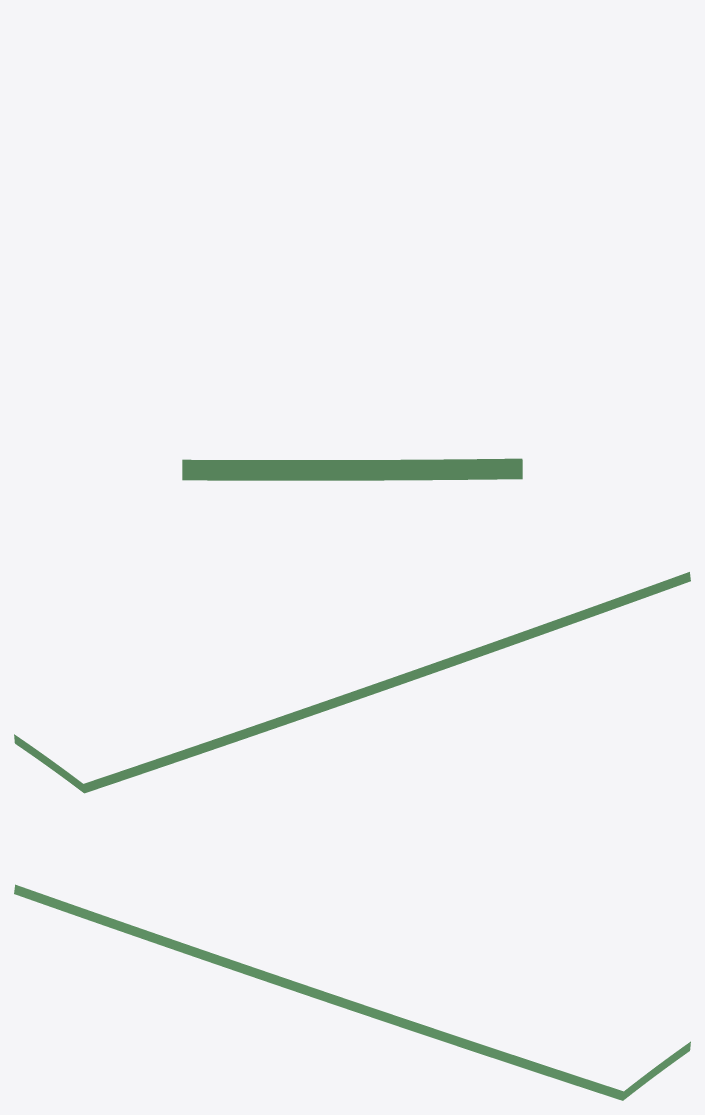
3 views of the same model, one above another, from view 1: azimuth 30°, elevation 25°; view 2: azimuth 150°, elevation 25°; view 3: azimuth 270°, elevation 25° (orthographic). The views are drawn at different scales.
Parts seen in each view (by area): view 1: geometry_0; view 2: geometry_0; view 3: geometry_0.
Part boxes in pixels (box(x1,y1,x2,y2)): geometry_0: box(182, 458, 522, 480); geometry_0: box(14, 572, 690, 793); geometry_0: box(14, 884, 690, 1100).
Size of the model in its own units: 107147 by 19737 by 153039.
